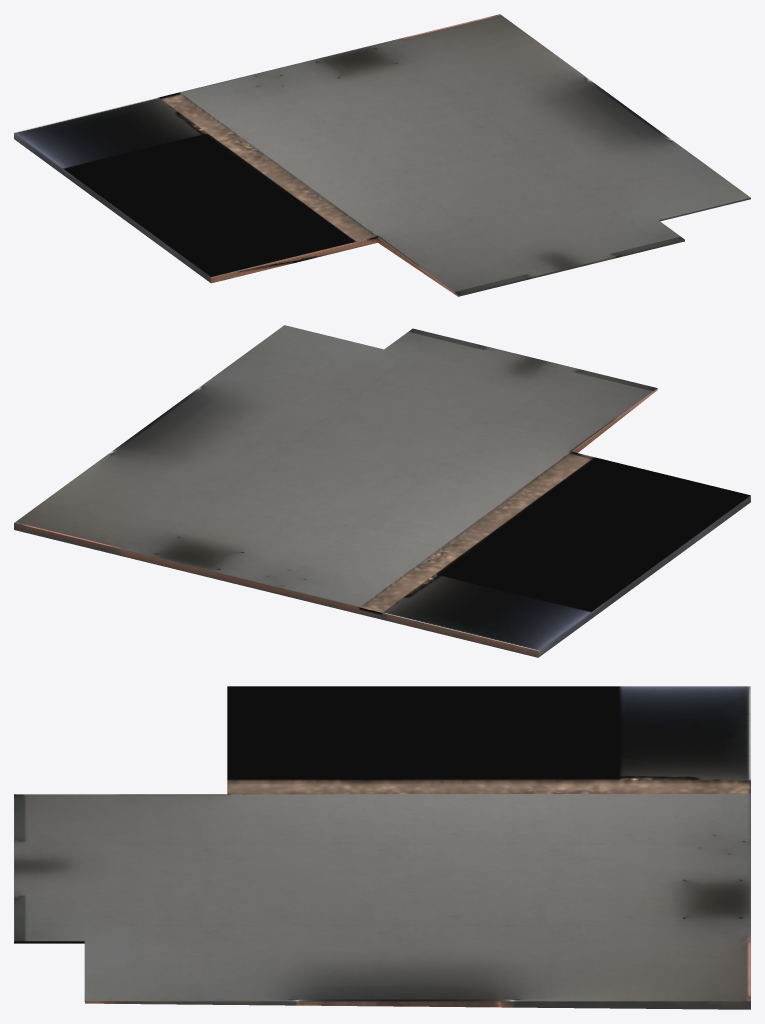
The model's file is Flooring_Wavy_white.glb.
3 renders of one model, top to bottom at view 1: azimuth 30°, elevation 25°; view 2: azimuth 150°, elevation 25°; view 3: azimuth 270°, elevation 25°, orthographic. The views are drawn at different scales.
Parts seen in each view (by area): view 1: Flooring_Wavy_white; view 2: Flooring_Wavy_white; view 3: Flooring_Wavy_white.
Boxes of the visible parts, x1=… form: Flooring_Wavy_white: x1=14, y1=14, x2=750, y2=296; Flooring_Wavy_white: x1=14, y1=325, x2=750, y2=657; Flooring_Wavy_white: x1=14, y1=686, x2=750, y2=1009.
Size of the model in its own units: 19.29 by 0.2411 by 19.07.
1 material, 1 textured.
